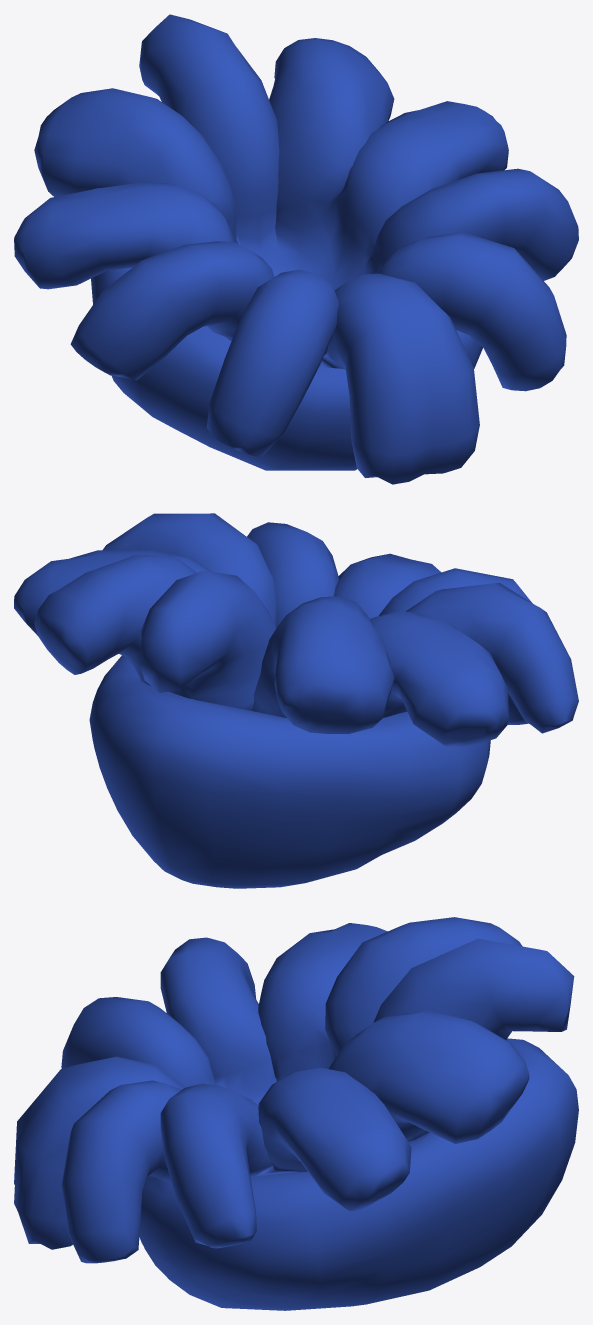
The model's file is SM_Anemone.fbx.
3 renders of one model, top to bottom at view 1: azimuth 30°, elevation 25°; view 2: azimuth 150°, elevation 25°; view 3: azimuth 270°, elevation 25°, orthographic.
Parts seen in each view (by area): view 1: Anemone_low; view 2: Anemone_low; view 3: Anemone_low.
Boxes of the visible parts, x1,y1,x2,y2 form: Anemone_low: (14,14,578,484); Anemone_low: (14,513,578,888); Anemone_low: (14,917,578,1310).
Bounding box in the file's own units: 55.57 × 37.92 × 54.51.
